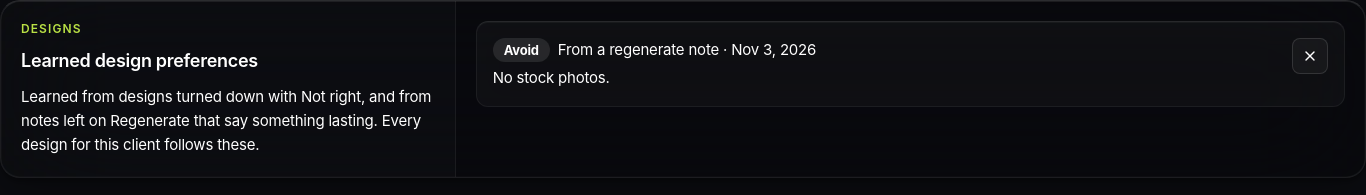
Test: says a learned design preference is not removed yet when the remove does not get through
Later steps or results of the test are not shown.
Click the button named "Remove this design preference": click(1310, 56) left=1292, top=38, right=1328, bottom=74
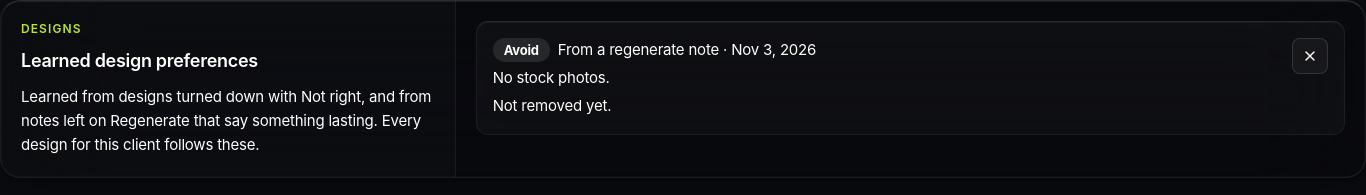
Result: the text "Not removed yet." is shown at left=493, top=96, right=611, bottom=115
